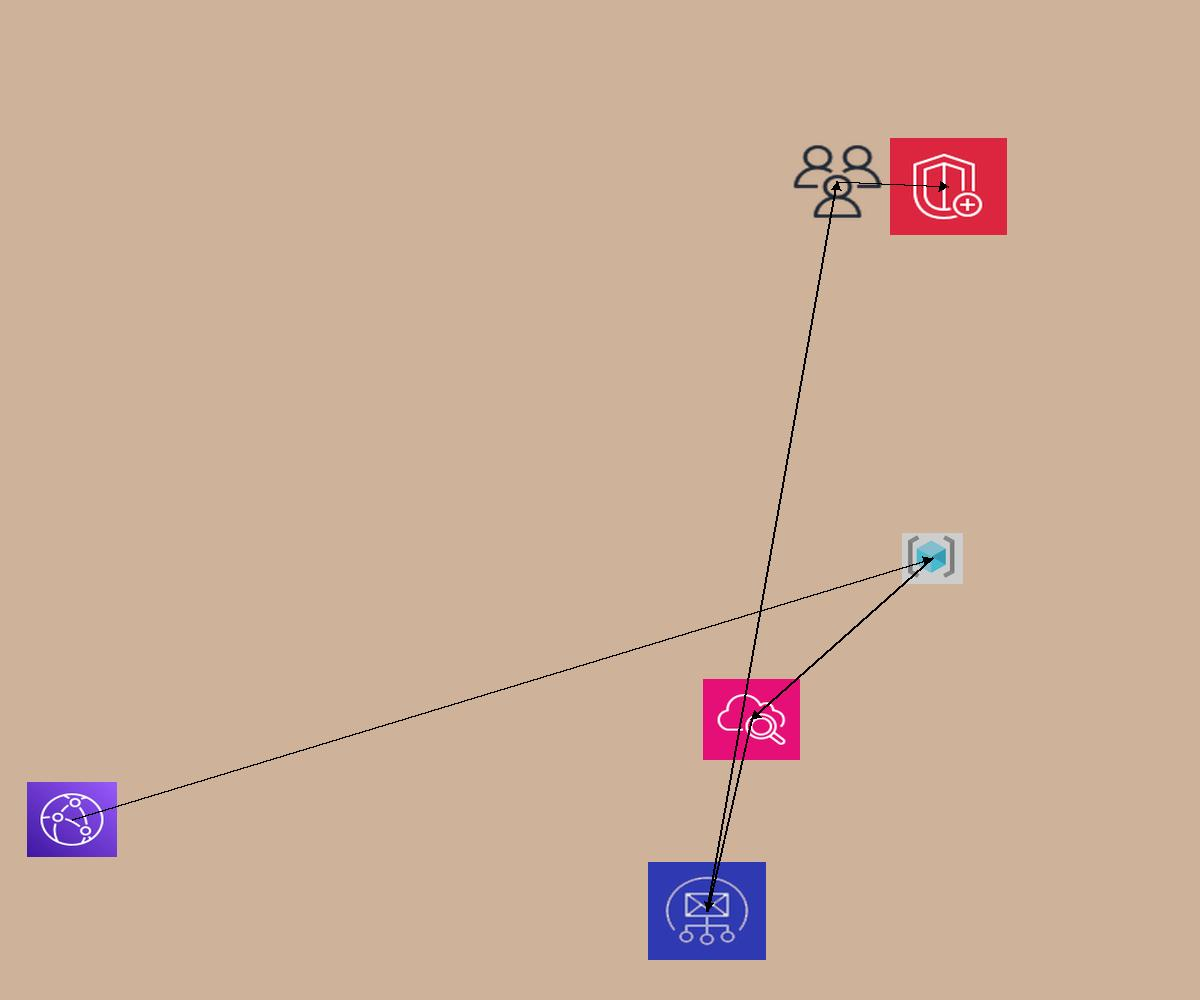AWS-CloudFront: (27, 782, 117, 857)
AWS-CloudWatch: (703, 679, 800, 760)
AWS-Res_Users: (790, 142, 885, 221)
AWS-Shield: (890, 138, 1007, 235)
AWS-Simple-Email-Service: (648, 862, 766, 960)
Azure_resource_group: (902, 533, 963, 584)
